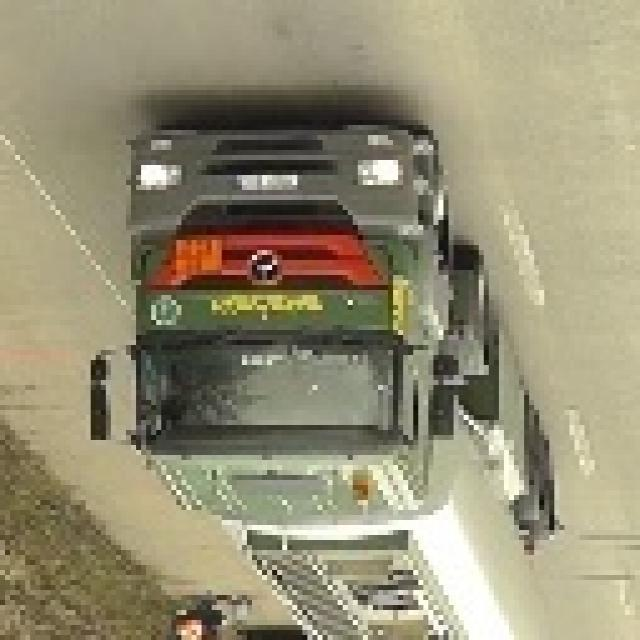Truck: (90, 115, 564, 640)
